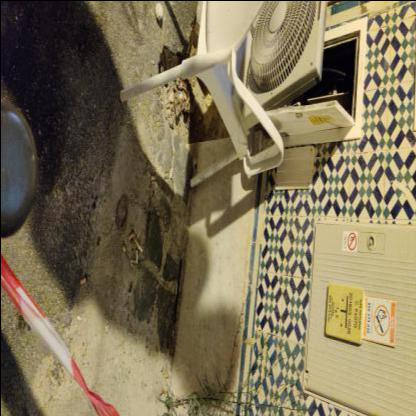Cigarette: (134, 236, 142, 252), (127, 232, 133, 240), (79, 277, 85, 285), (186, 42, 190, 54), (174, 280, 177, 295), (76, 314, 81, 321), (150, 173, 154, 180), (135, 249, 137, 263), (170, 166, 172, 178), (165, 102, 169, 107)
Plastic bag - wrapper: (173, 90, 185, 118)
